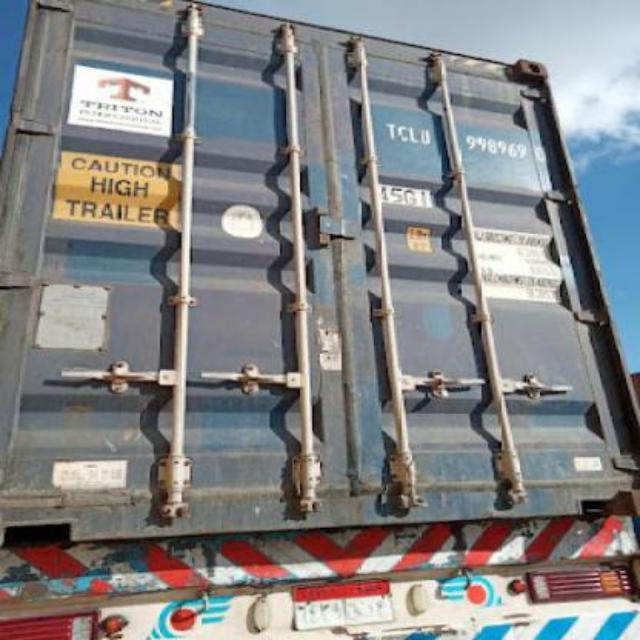0: (534, 138, 546, 166)
6: (506, 138, 516, 162)
8: (486, 134, 498, 156)
9: (516, 129, 526, 169), (462, 128, 476, 156), (496, 129, 508, 159), (476, 130, 486, 154)
C: (396, 122, 409, 144)
L: (408, 122, 420, 146)
T: (382, 117, 396, 143)
U: (418, 124, 432, 146)
